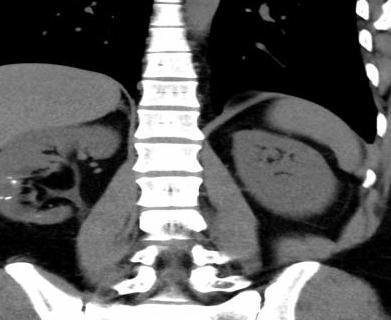Tas_Var: (5, 176, 13, 180), (10, 180, 18, 184), (5, 196, 12, 200), (0, 196, 4, 199)
